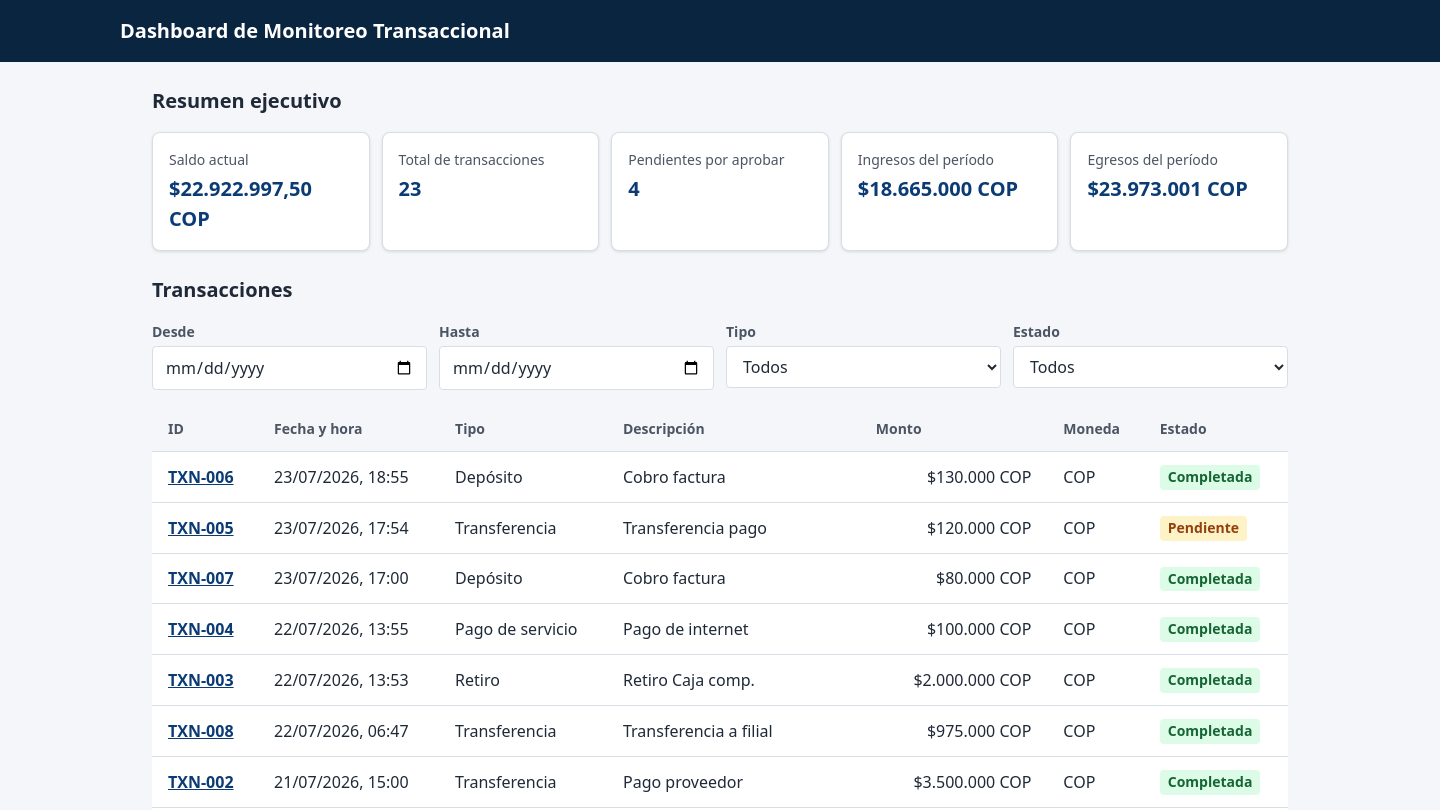
Test case: DashboardPage (integración) › muestra el mensaje de sin coincidencias cuando ningún filtro coincide
The image size is (1440, 810).
Select "Retiro" in the dropdown labelled "Tipo" at (864, 367), box 726,346 -> 1001,388
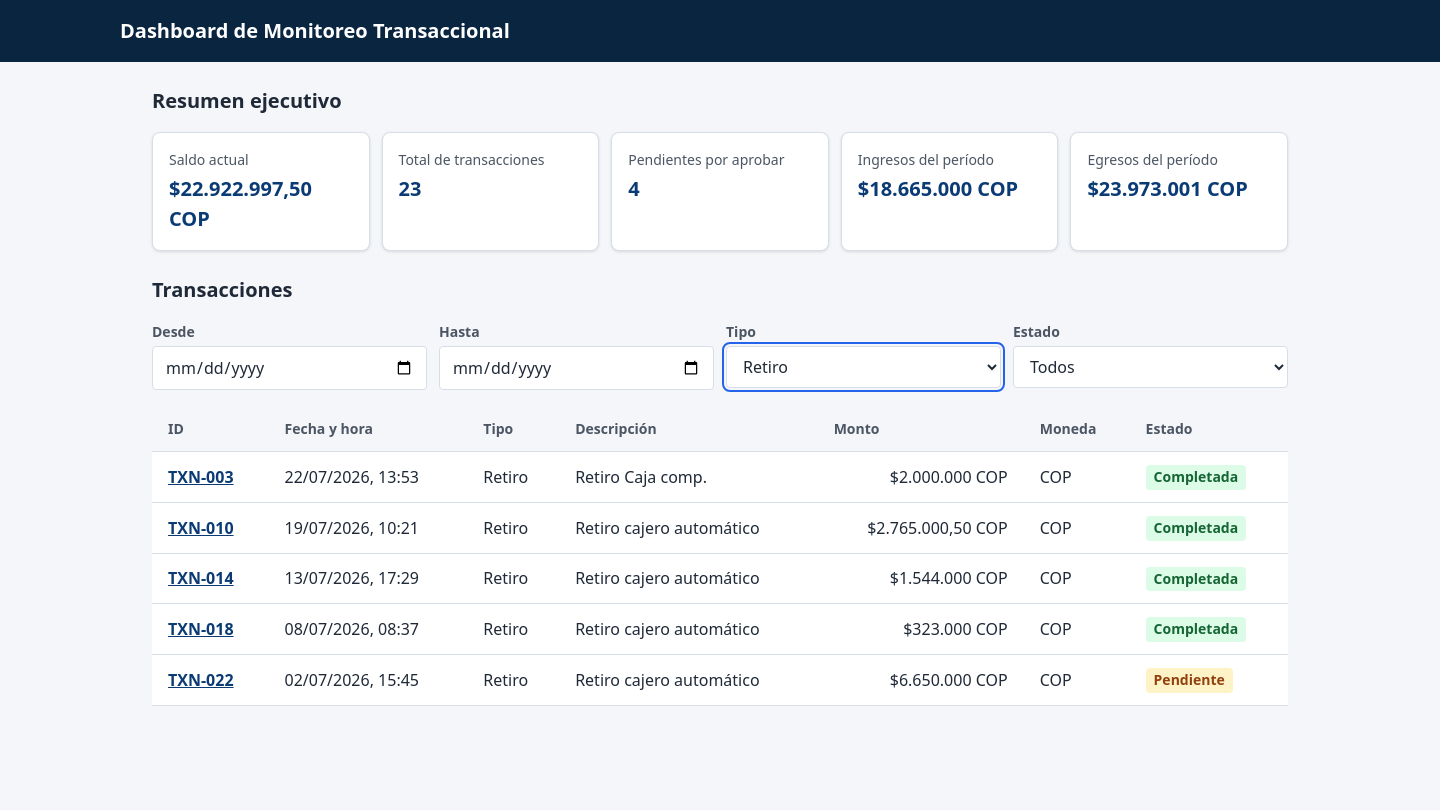
Select "Devuelta" in the dropdown labelled "Estado" at (1150, 367), box 1013,346 -> 1288,388
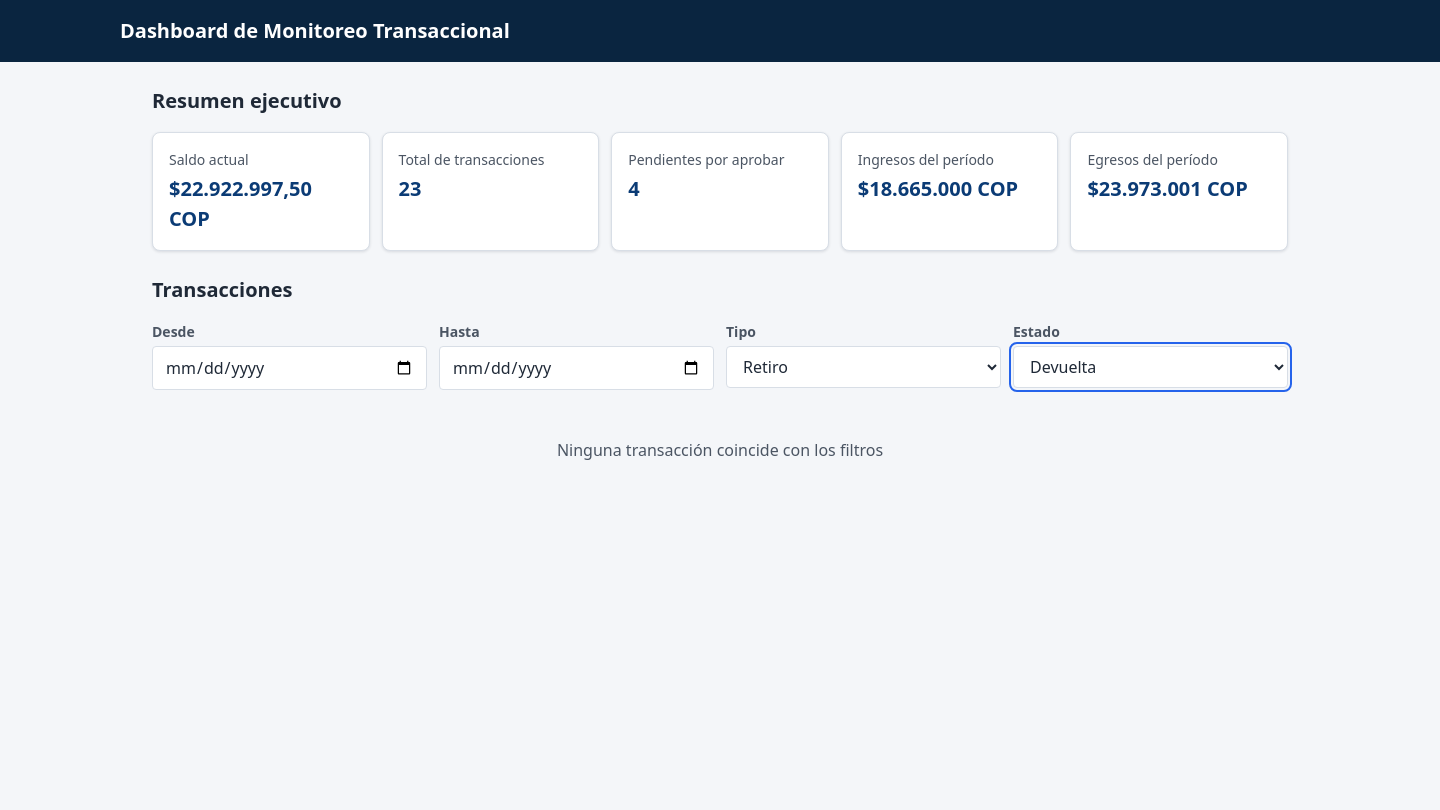
Expected: the text "Ninguna transacción coincide con los filtros" is shown, 557,439 -> 883,461
Expected: the table is gone
